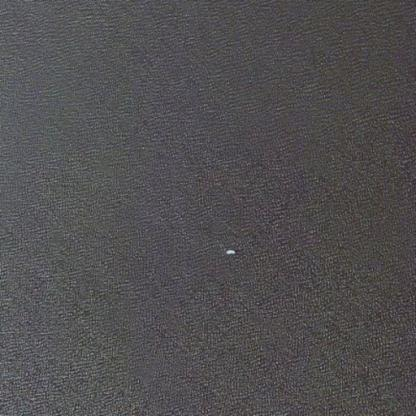ship: (223, 247, 235, 255)
